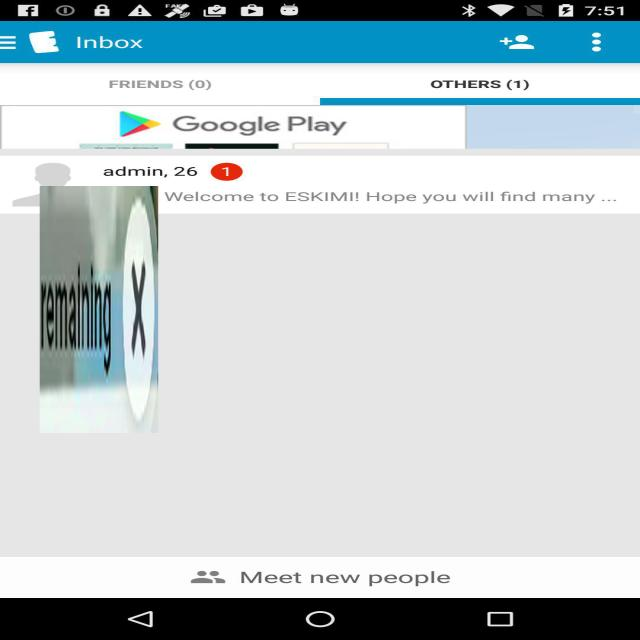misdirection: (40, 186, 158, 433)
